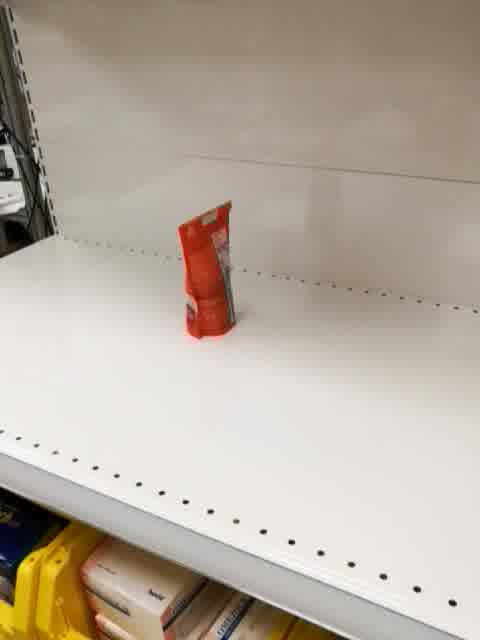whitechia: (177, 197, 238, 343)
